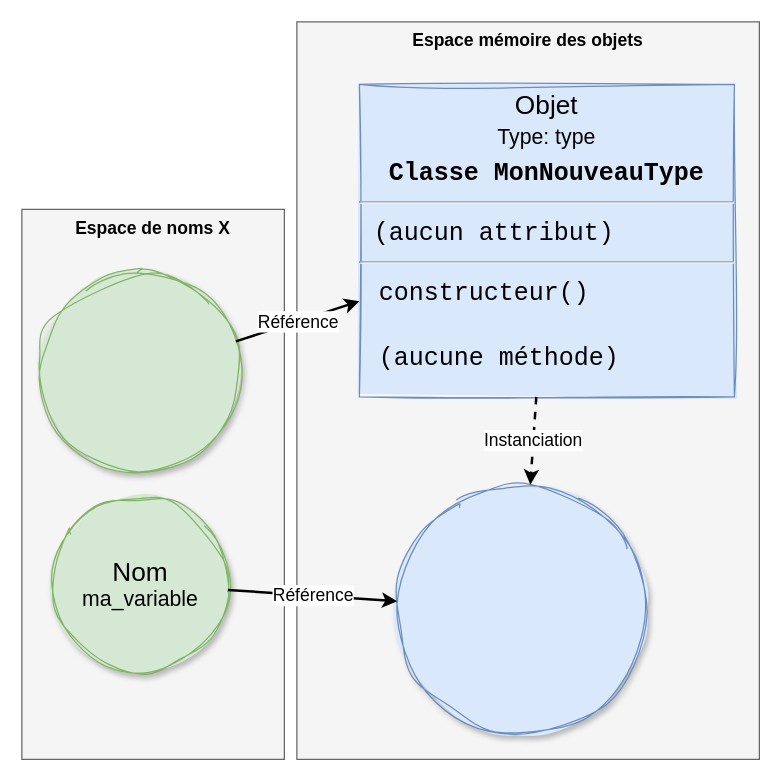
Image size: 781x781. Some labels were removed from this diagram. Each missing label, with the centre of its shape:
"Nom MonNouveauType" belongs at point (141, 373).
"Objet Type: MonNouveauType" belongs at point (522, 610).
